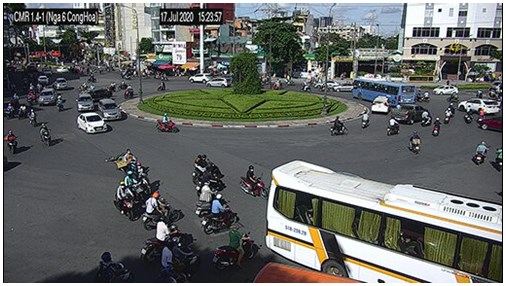xe_buyt: (267, 160, 504, 286), (353, 78, 415, 105)
xe_hoi: (393, 103, 427, 123), (76, 113, 106, 134), (457, 97, 498, 112), (98, 98, 120, 121), (477, 115, 502, 132), (77, 93, 94, 112), (38, 88, 56, 105), (370, 95, 388, 112), (188, 72, 212, 84), (206, 77, 230, 88), (432, 86, 458, 95), (314, 79, 337, 88), (334, 82, 353, 92), (54, 77, 64, 90), (38, 75, 48, 83)
xe_may: (215, 225, 260, 270), (140, 216, 182, 264), (141, 192, 181, 228), (202, 193, 238, 231), (158, 240, 201, 270), (96, 252, 132, 281), (240, 165, 268, 200), (115, 180, 135, 220), (192, 154, 219, 183), (195, 181, 218, 214), (116, 146, 138, 178), (195, 170, 222, 194), (125, 170, 144, 200), (133, 163, 151, 194), (155, 114, 179, 135), (330, 115, 350, 137), (473, 139, 488, 165), (407, 129, 420, 155), (127, 182, 139, 209), (387, 114, 401, 136), (41, 123, 53, 148), (6, 129, 16, 157), (494, 145, 503, 171), (432, 116, 441, 138), (123, 83, 135, 99), (360, 108, 368, 129), (24, 89, 35, 104), (28, 109, 37, 127), (55, 94, 64, 112), (17, 104, 27, 119), (5, 103, 14, 119), (155, 80, 166, 91), (443, 107, 450, 123), (10, 93, 20, 104), (87, 71, 97, 81), (447, 102, 454, 116), (109, 80, 118, 90)
